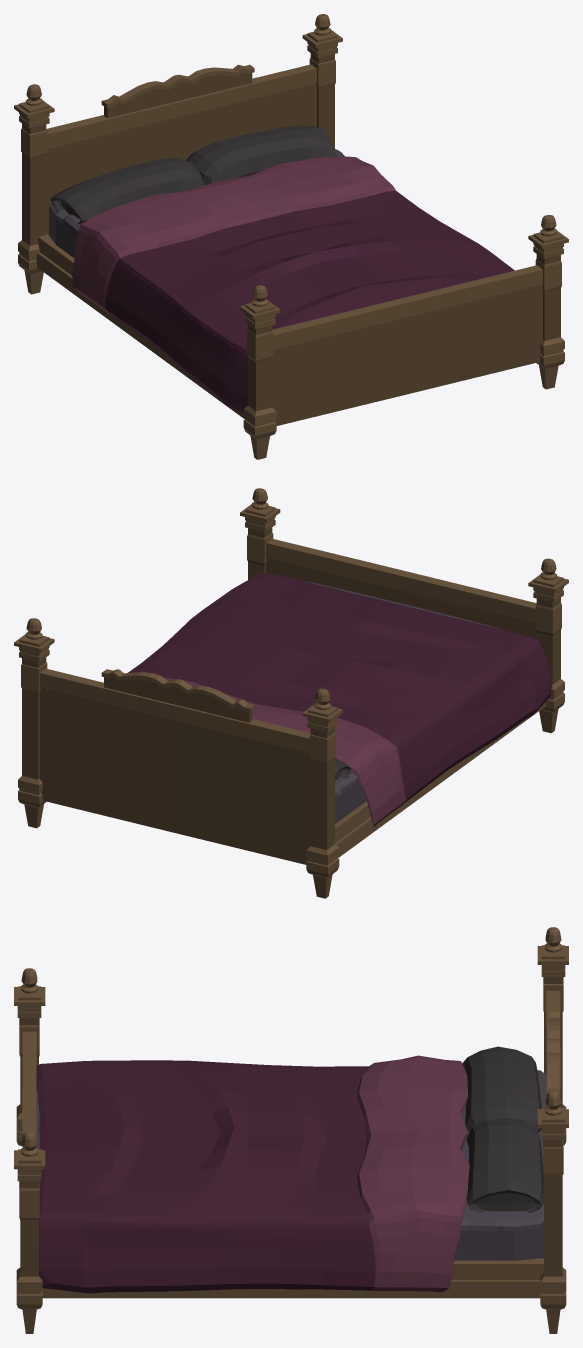
File: furn-bed-double-frame-headboard.glb
The picture shows the model from 3 angles, top to bottom: view 1: azimuth 30°, elevation 25°; view 2: azimuth 150°, elevation 25°; view 3: azimuth 270°, elevation 25°; orthographic projection. The views are drawn at different scales.
Visible parts, largest first — view 1: BedFrame, Comforter, Pillow2, Pillow, Mattress; view 2: BedFrame, Comforter, Mattress; view 3: Comforter, BedFrame, Pillow2, Pillow, Mattress.
Part boxes in pixels (x1,y1,x2,y2): BedFrame: (14,14,568,459); Comforter: (72,156,514,412); Pillow2: (185,125,336,184); Pillow: (50,157,205,224); Mattress: (49,148,344,258); BedFrame: (14,488,568,898); Comforter: (128,572,551,826); Mattress: (302,580,500,823); Comforter: (36,1055,469,1293); BedFrame: (14,927,568,1333); Pillow2: (466,1118,543,1213); Pillow: (462,1046,541,1132); Mattress: (36,1070,546,1260).
Bounding box in the file's own units: 1.6 × 1 × 2.1.
